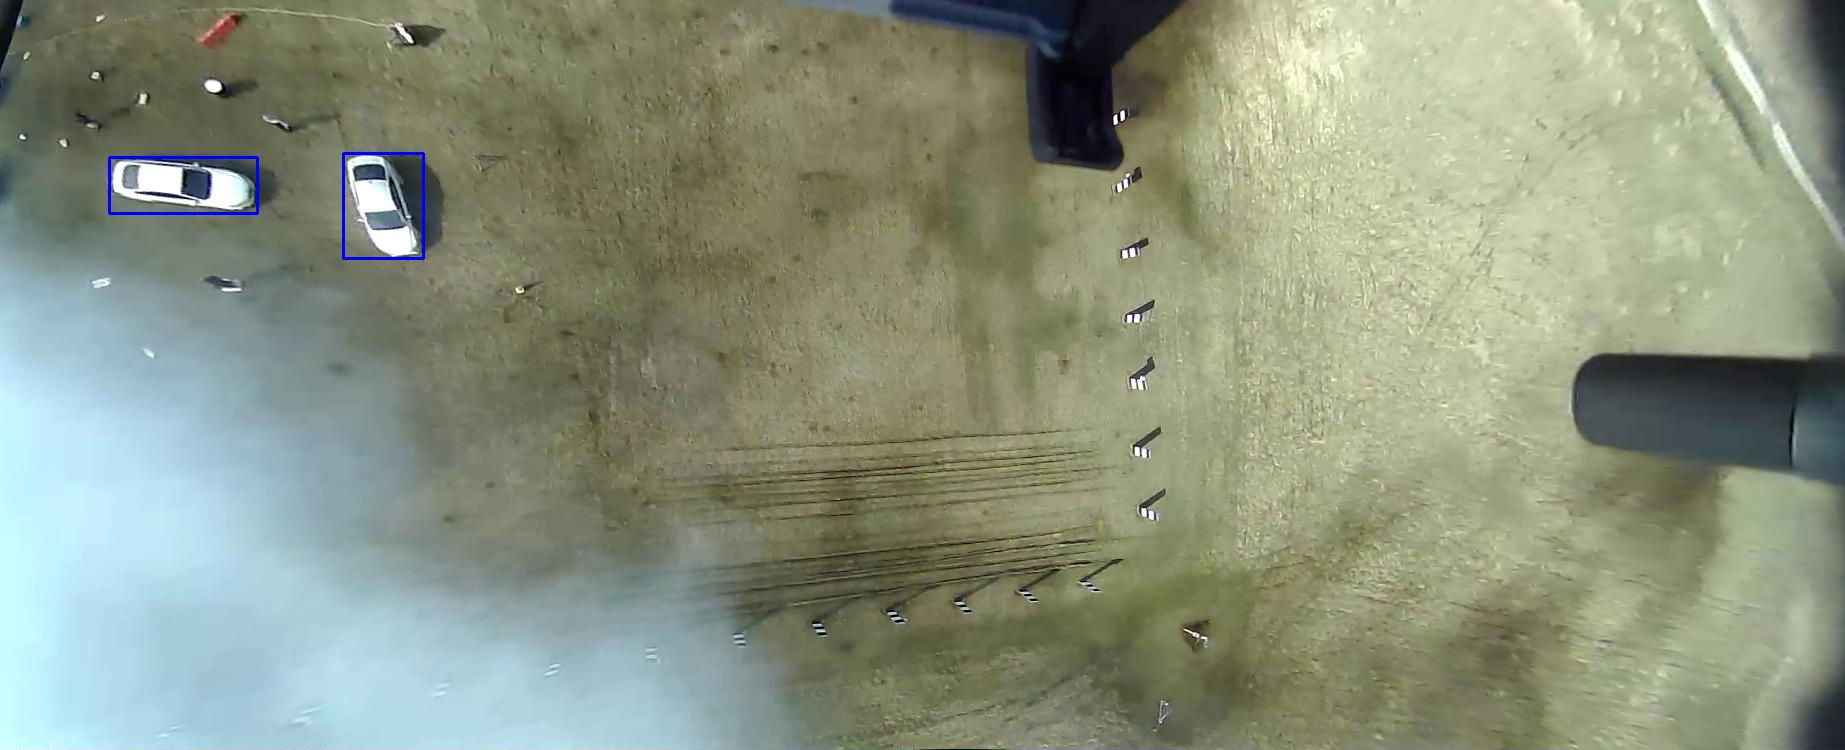vehicle: (153, 343, 258, 423), (156, 109, 213, 257)
